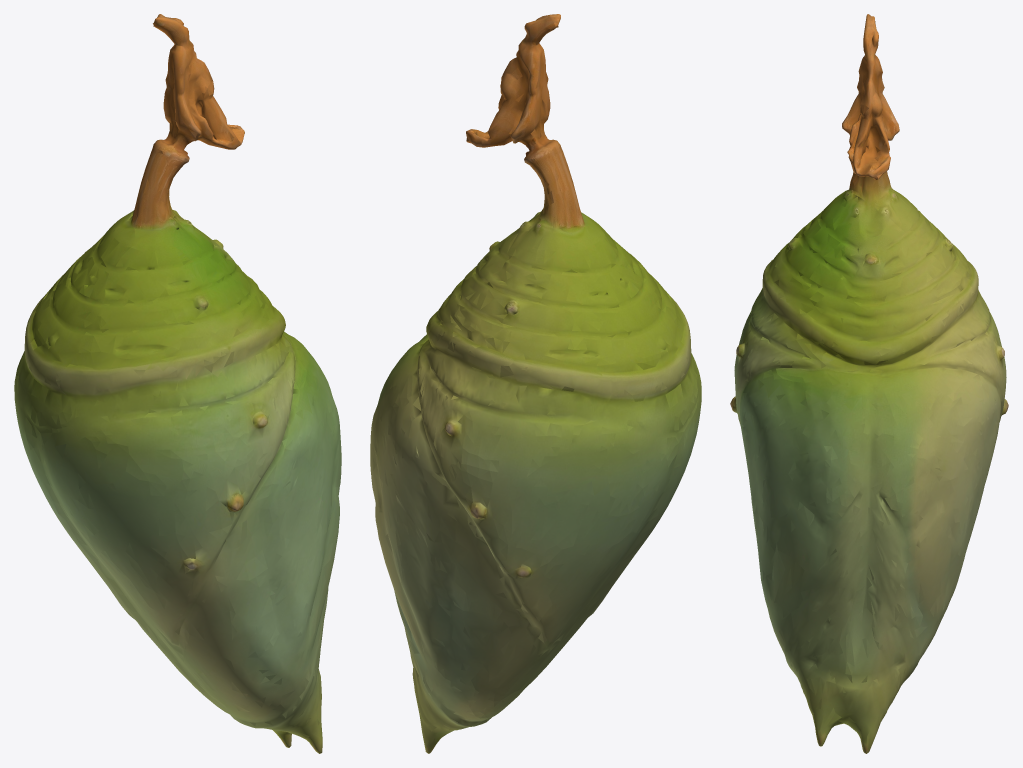
Rendered from crisalida.fbx.
3 renders of one model, left to right at view 1: azimuth 30°, elevation 25°; view 2: azimuth 150°, elevation 25°; view 3: azimuth 270°, elevation 25°, orthographic. The views are drawn at different scales.
Visible parts, largest first — view 1: tripo_node_4a15d1f3; view 2: tripo_node_4a15d1f3; view 3: tripo_node_4a15d1f3.
Part boxes in pixels (<box>): tripo_node_4a15d1f3: <box>14,14,341,753</box>; tripo_node_4a15d1f3: <box>370,14,701,753</box>; tripo_node_4a15d1f3: <box>730,14,1008,753</box>.
Bounding box in the file's own units: 0.9811 × 2.49 × 0.9211.
Materials: 1 (1 with a texture image).
